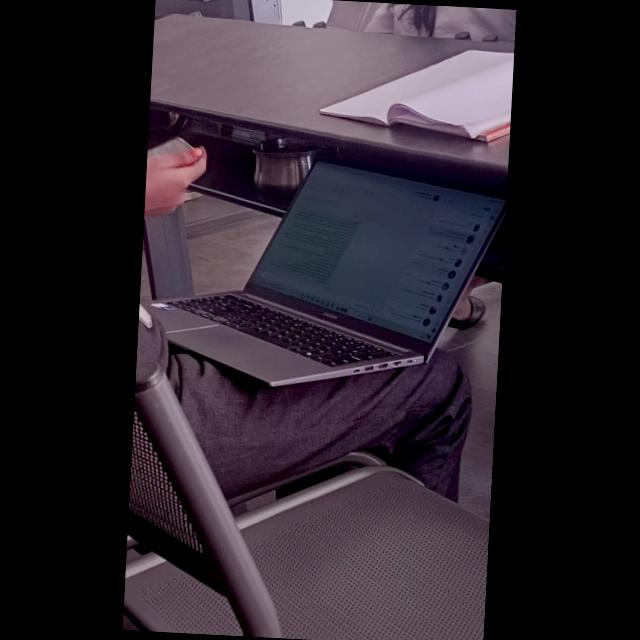laptop: (159, 139, 501, 420)
